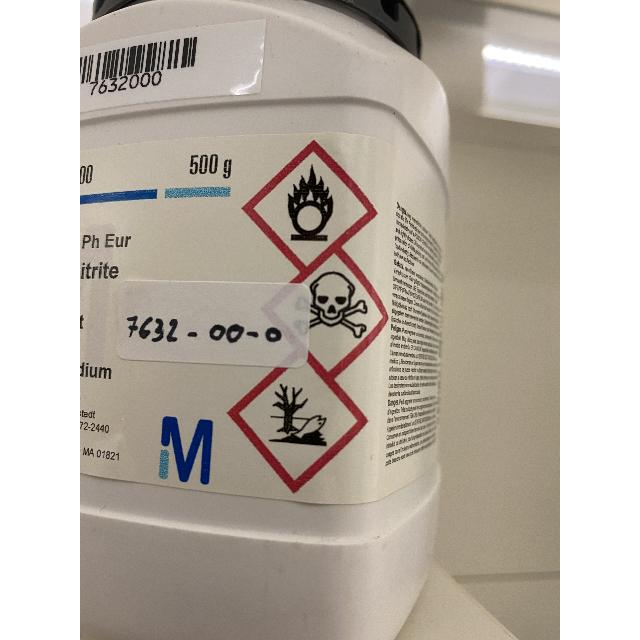acute toxicity: (257, 244, 389, 380)
hazardous to the environment: (226, 345, 368, 493)
oxidising: (240, 140, 376, 276)
